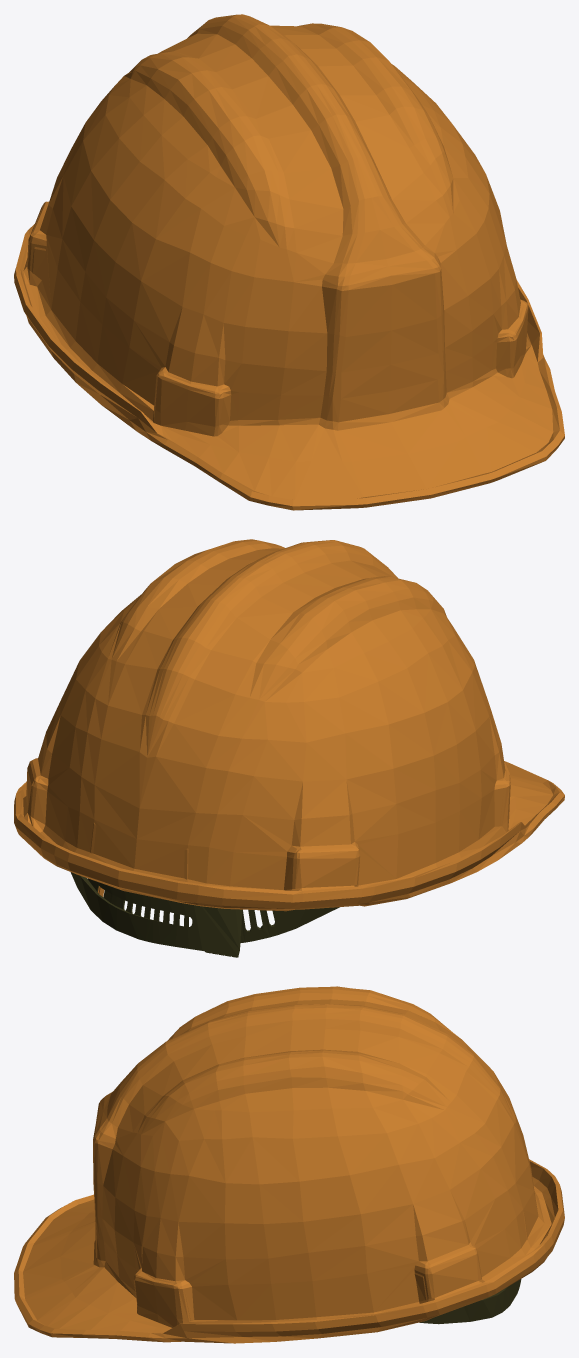
File: Helmet.obj
3 renders of one model, top to bottom at view 1: azimuth 30°, elevation 25°; view 2: azimuth 150°, elevation 25°; view 3: azimuth 270°, elevation 25°, orthographic. The views are drawn at different scales.
Visible parts, largest first — view 1: E003PLVE; view 2: E003PLVE; view 3: E003PLVE.
Boxes of the visible parts, <box> form: E003PLVE: <box>14,14,564,510</box>; E003PLVE: <box>14,539,564,957</box>; E003PLVE: <box>14,986,564,1343</box>.
Bounding box in the file's own units: 1.24 × 0.8898 × 1.58.
